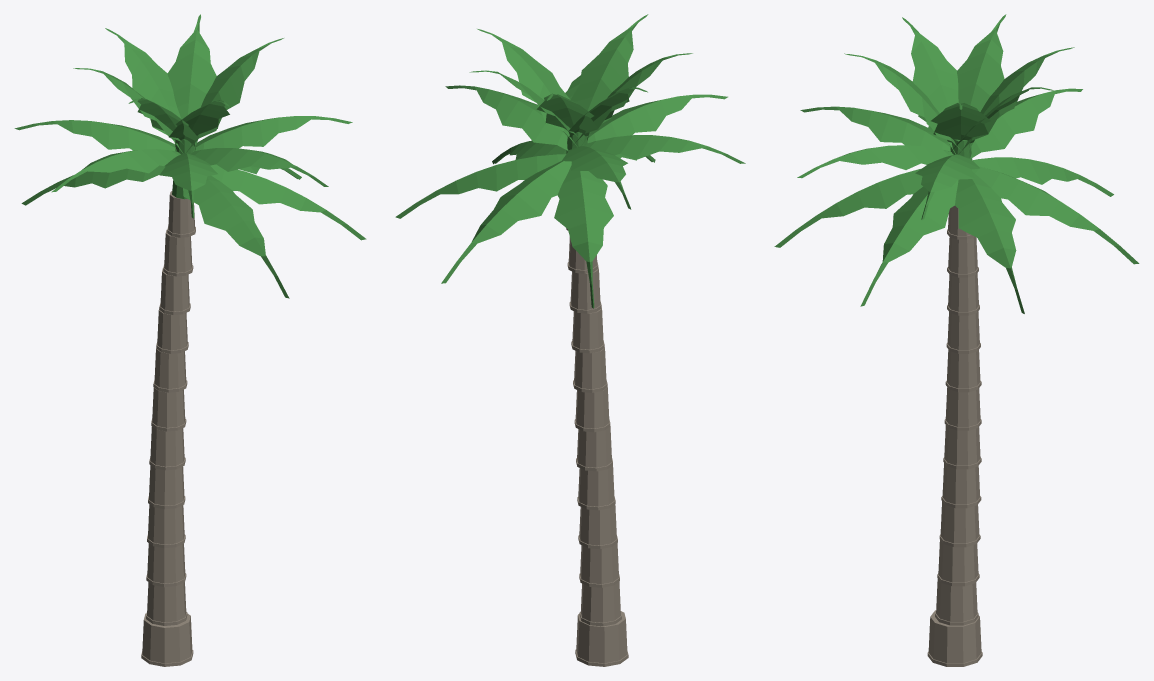
File: palm.gltf
The picture shows the model from 3 angles, left to right: view 1: azimuth 30°, elevation 25°; view 2: azimuth 150°, elevation 25°; view 3: azimuth 270°, elevation 25°; orthographic projection. The views are drawn at different scales.
Parts seen in each view (by area): view 1: PalmPalmLeaf, PalmPalmTrunk; view 2: PalmPalmLeaf, PalmPalmTrunk; view 3: PalmPalmLeaf, PalmPalmTrunk.
Boxes of the visible parts, <box> form: PalmPalmLeaf: <box>14,14,366,298</box>; PalmPalmTrunk: <box>141,191,195,666</box>; PalmPalmLeaf: <box>395,14,745,308</box>; PalmPalmTrunk: <box>566,228,628,666</box>; PalmPalmLeaf: <box>774,14,1139,313</box>; PalmPalmTrunk: <box>927,205,982,666</box>.
Bounding box in the file's own units: 4.93 × 9.28 × 5.07.
